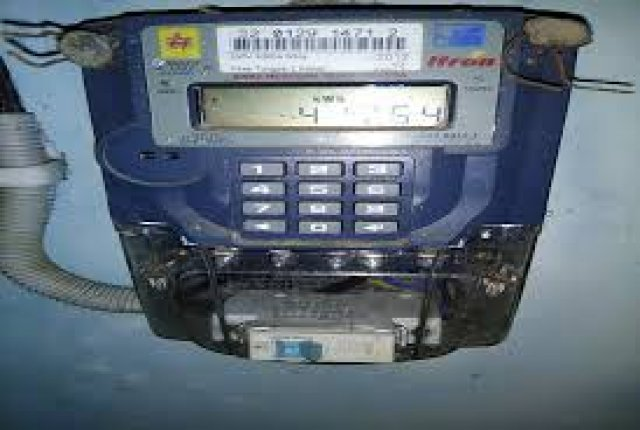box: (201, 87, 452, 127)
